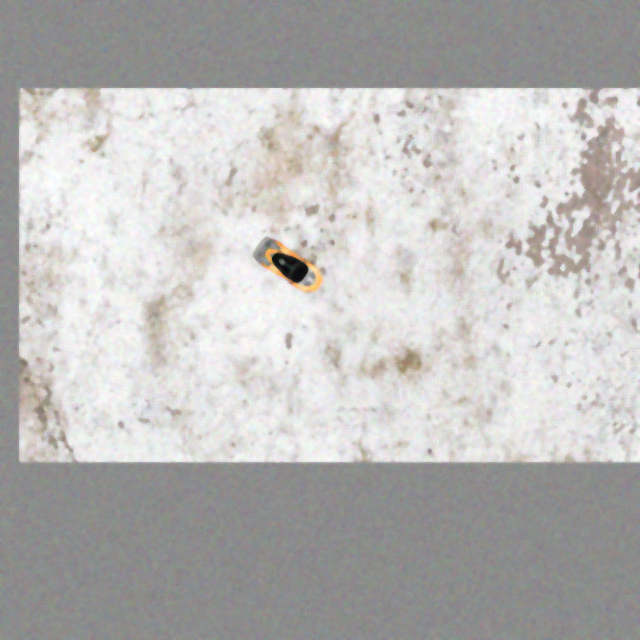car: (252, 235, 329, 300)
